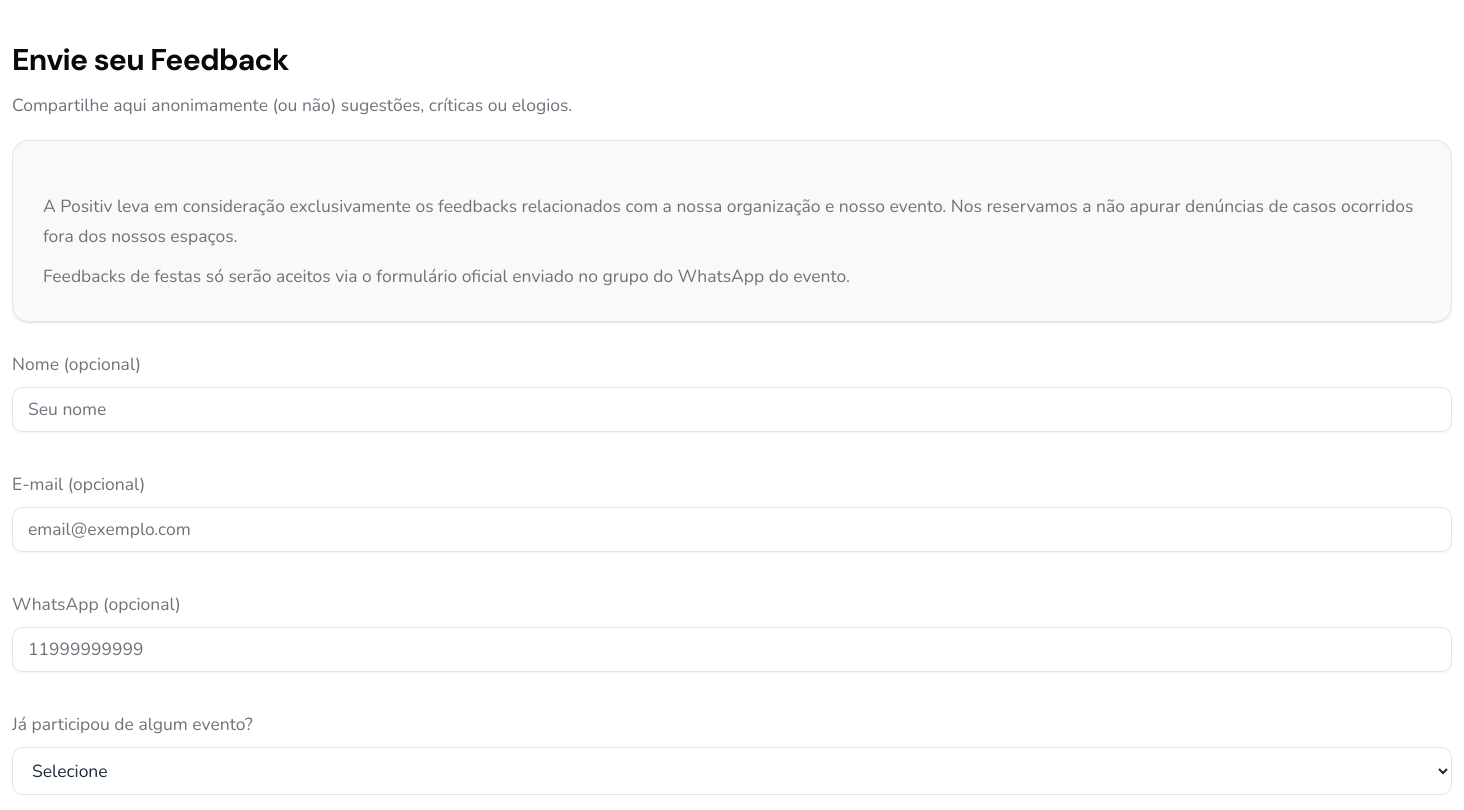
Test: FeedbackPage › component › refuses to send anything until the captcha has answered
Select "Participei uma vez" in the dropdown labelled "Já participou de algum evento?": point(732, 771) [12,747,1452,795]
(page scrolled)
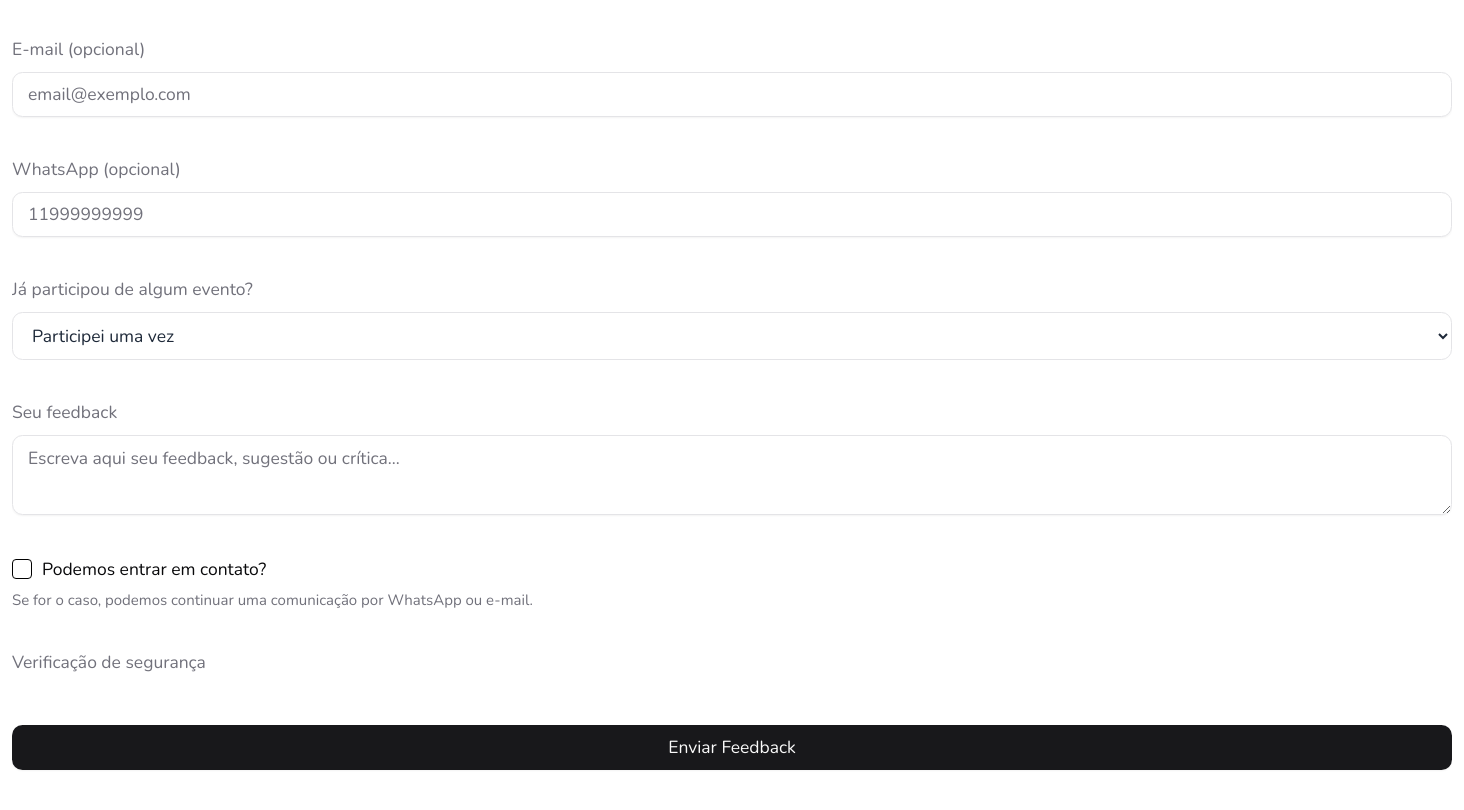
In the text box labelled "Seu feedback": point(732, 475) [12,435,1452,515], type "Um feedback de tamanho decente"
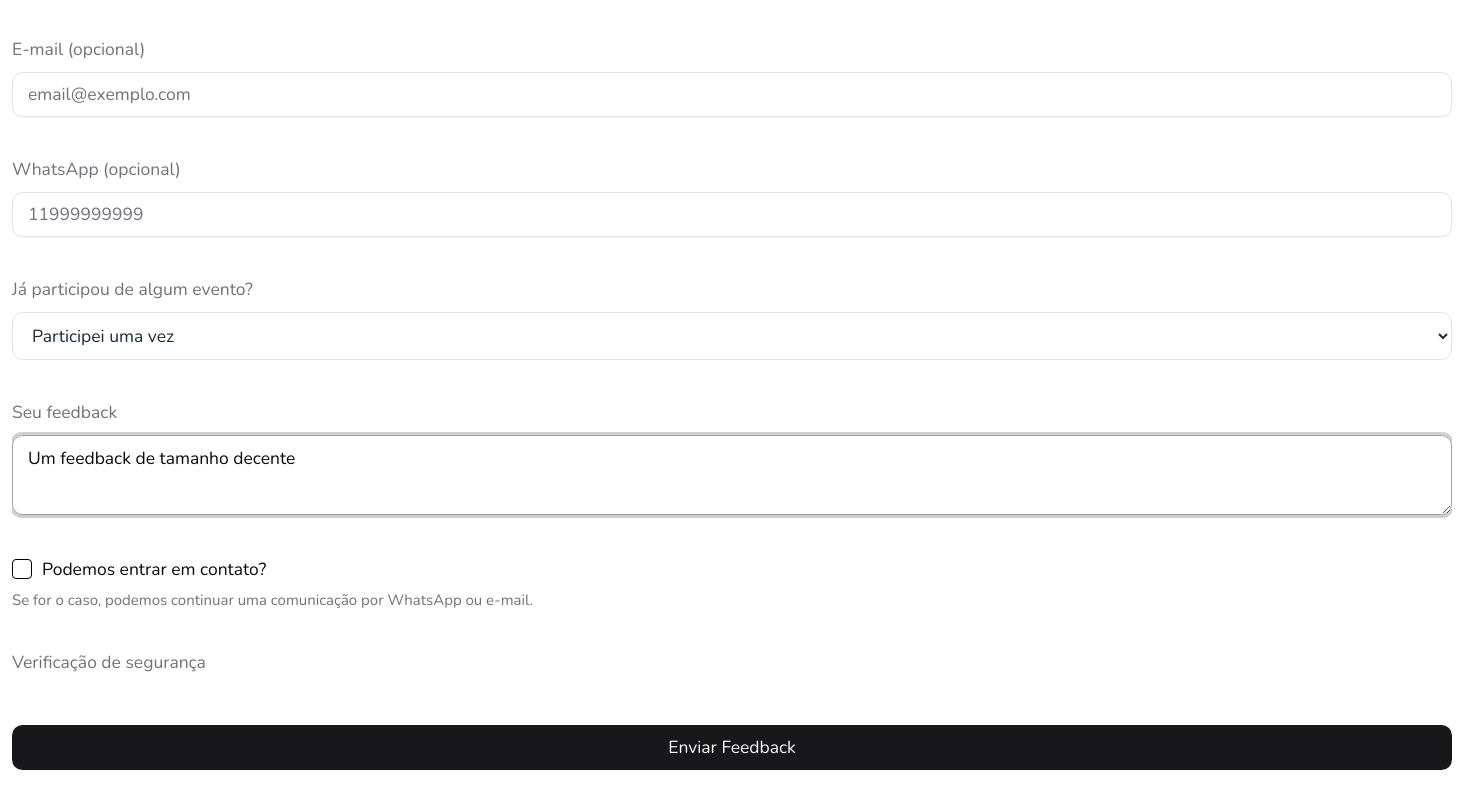
Click the button "Enviar Feedback": point(732, 748) [12,725,1452,770]
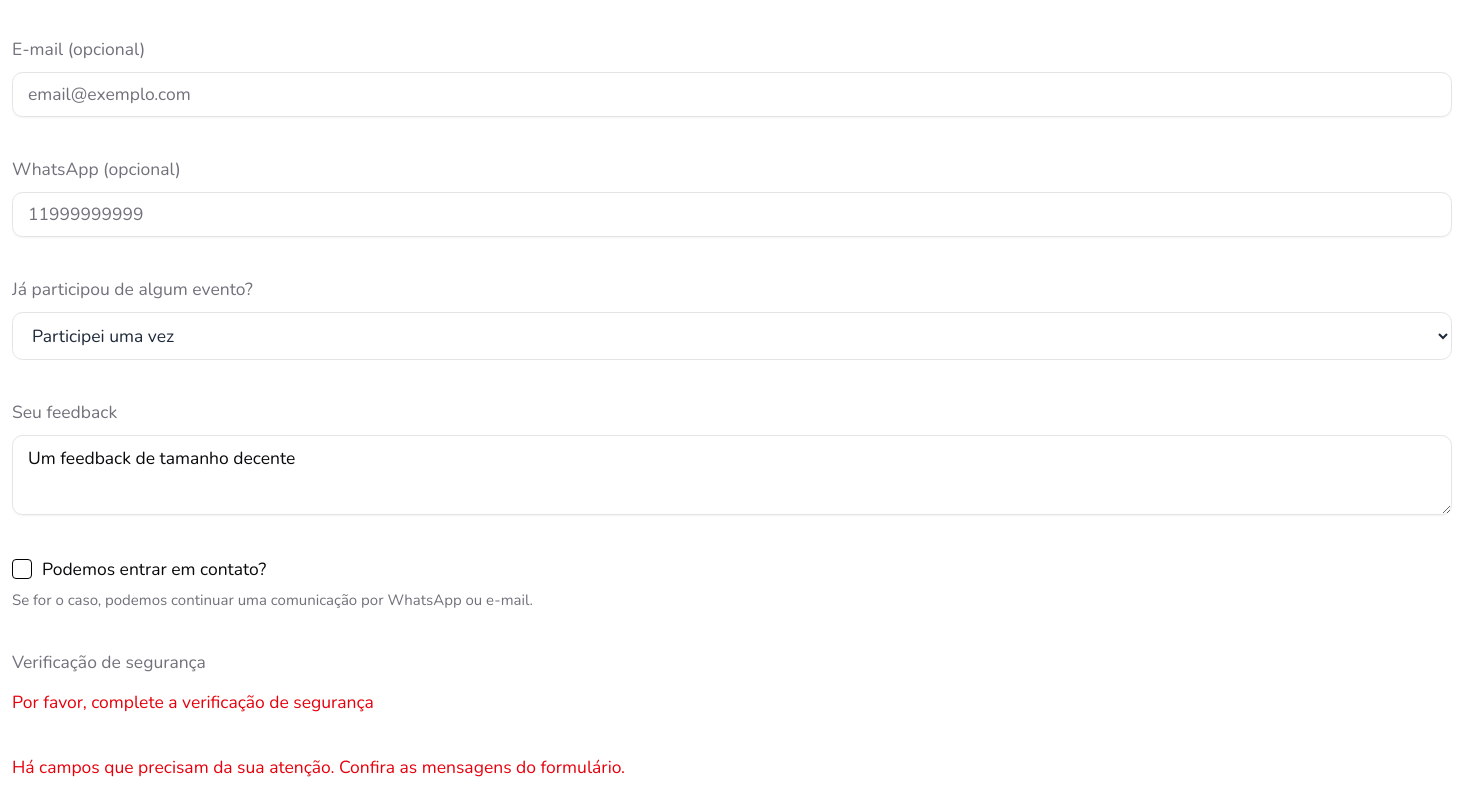
Check: the text "Por favor, complete a verificação de segurança" is shown, box [12,690,374,714]
